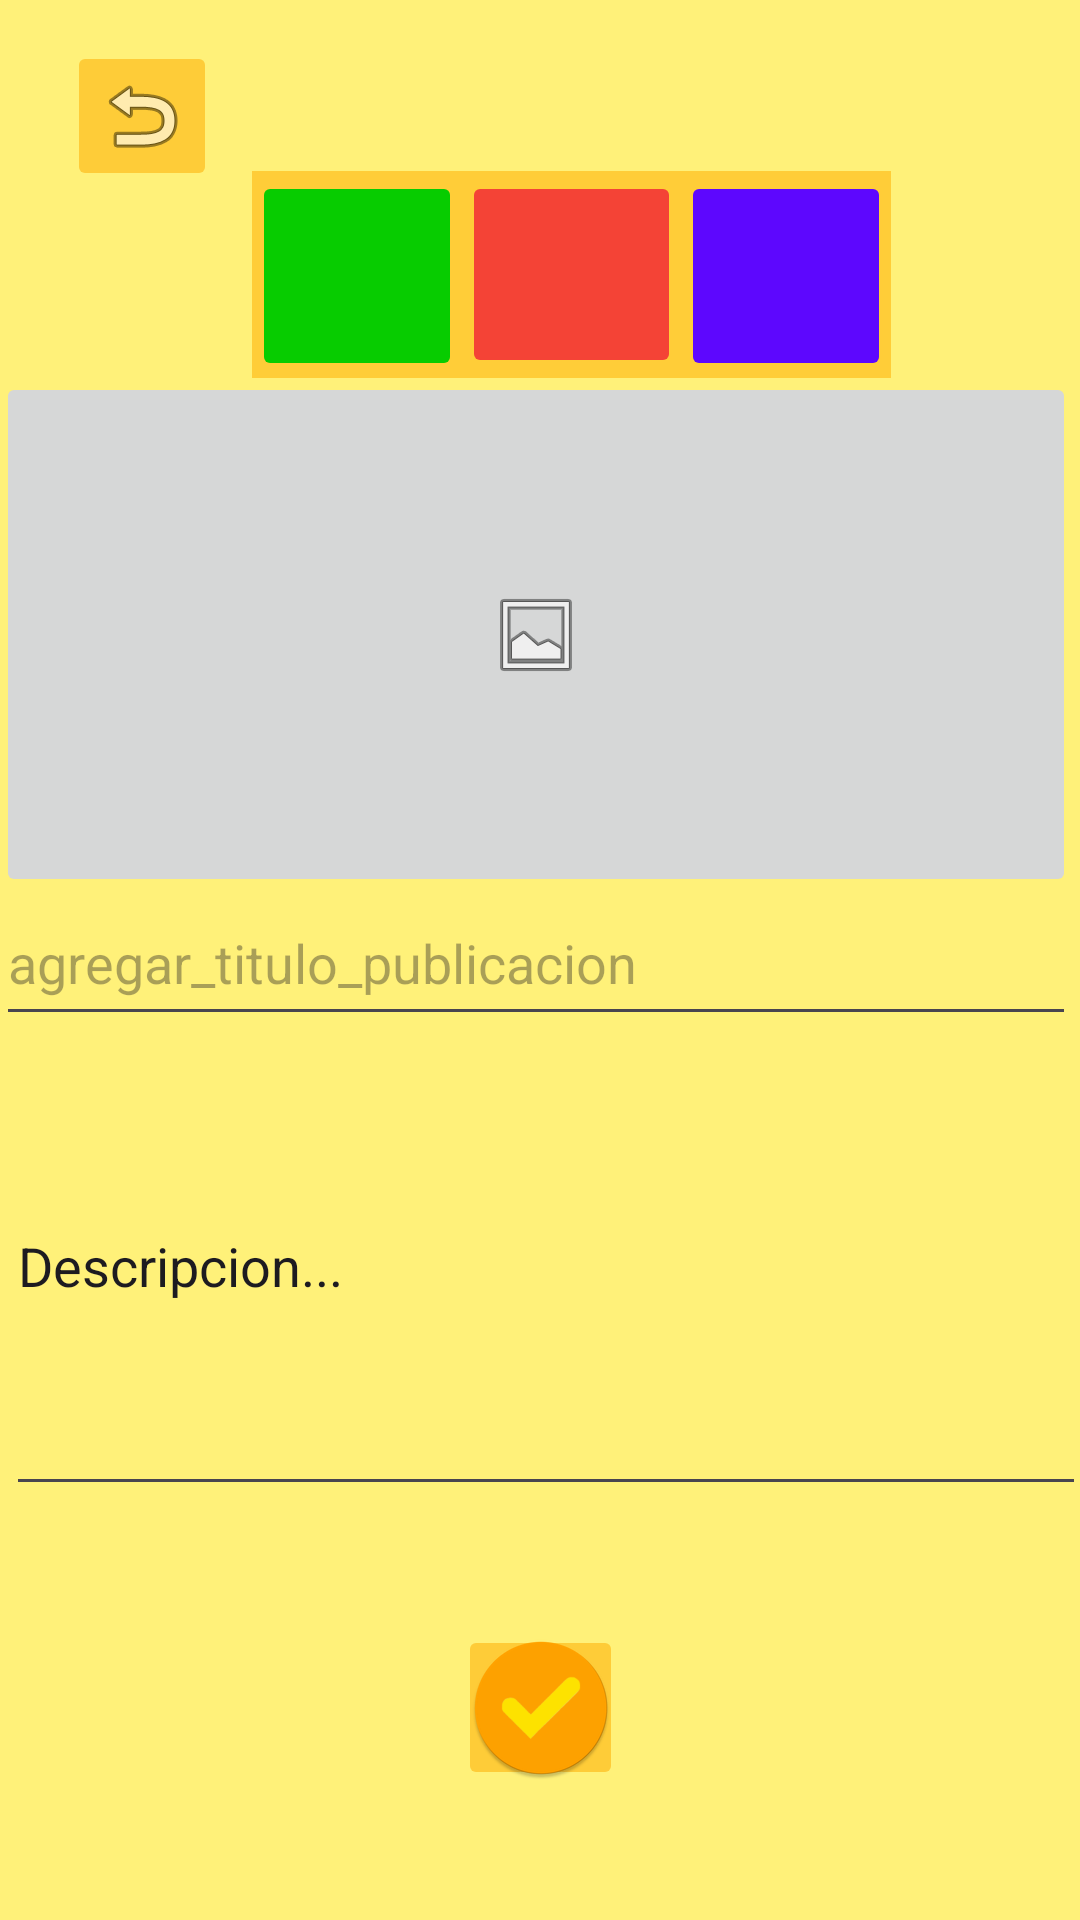

Where to tap for icons on this 1080*1920 app screen, as (x,y):
revert: (142,116)
tick correcto amarillo round: (540,1709)
